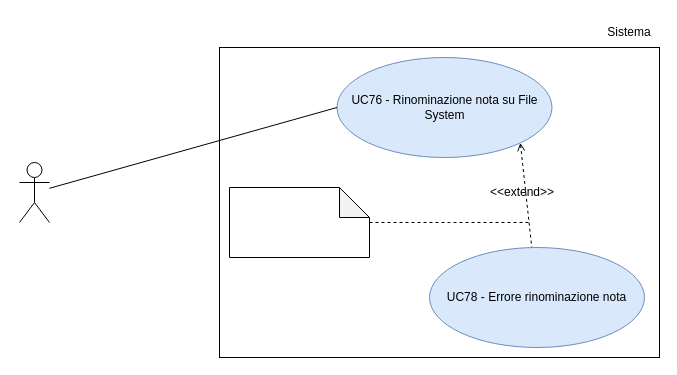
The diagram is 677 pixels wide and 375 high, and some of its shapes have lost their labels. The shapes that lost their labels are listed below. From the top down, each one's centre as x and y in pixels, then its label:
(x=34, y=192): Utente
(x=299, y=222): Condizione Il sistema non riesce a rinominare la nota
